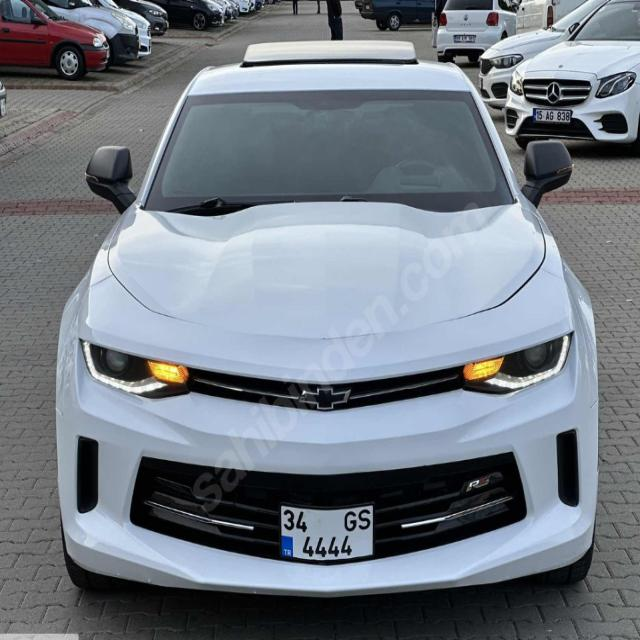chevrolet: (298, 380, 352, 416)
